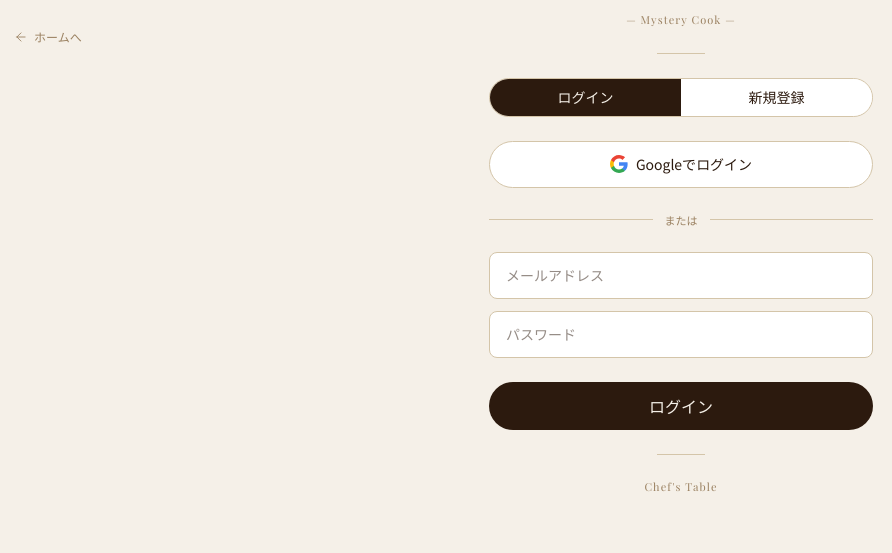
Test: LoginPage › パスワードが8文字未満のときエラーメッセージが表示される
// パスワード入力欄に7文字入力
Type "1234567" into the password field with placeholder "パスワード" at (681, 334), box [489, 311, 873, 358]
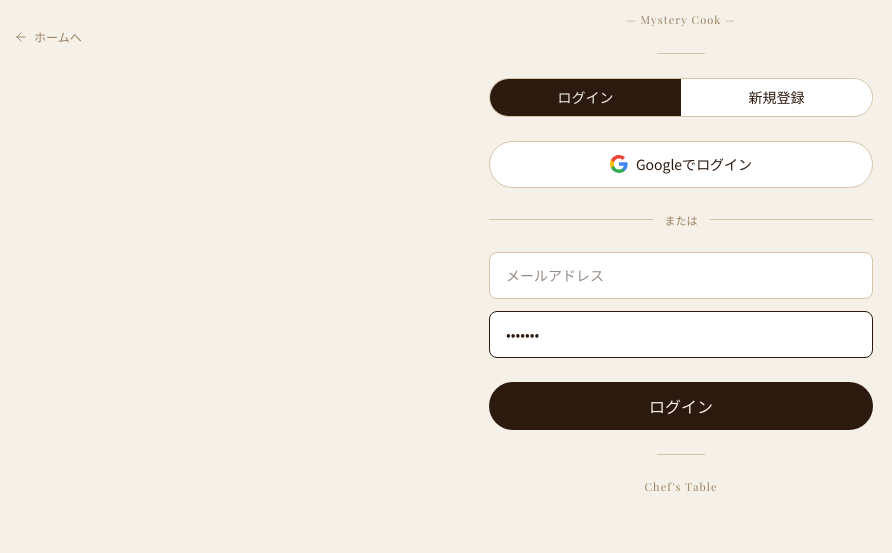
Click the 2nd button "ログイン" at (681, 406), box [489, 382, 873, 430]
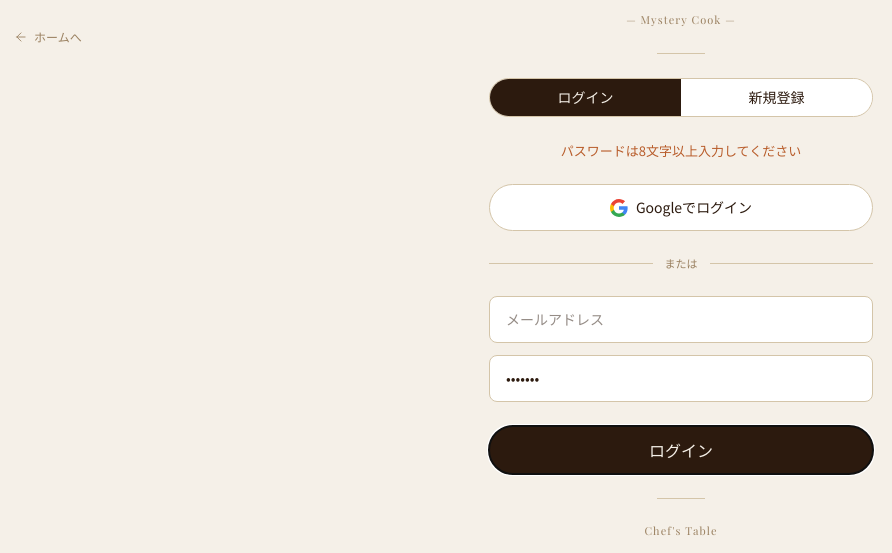
expect the text "パスワードは8文字以上入力してください" is shown: met, box [561, 140, 801, 160]
